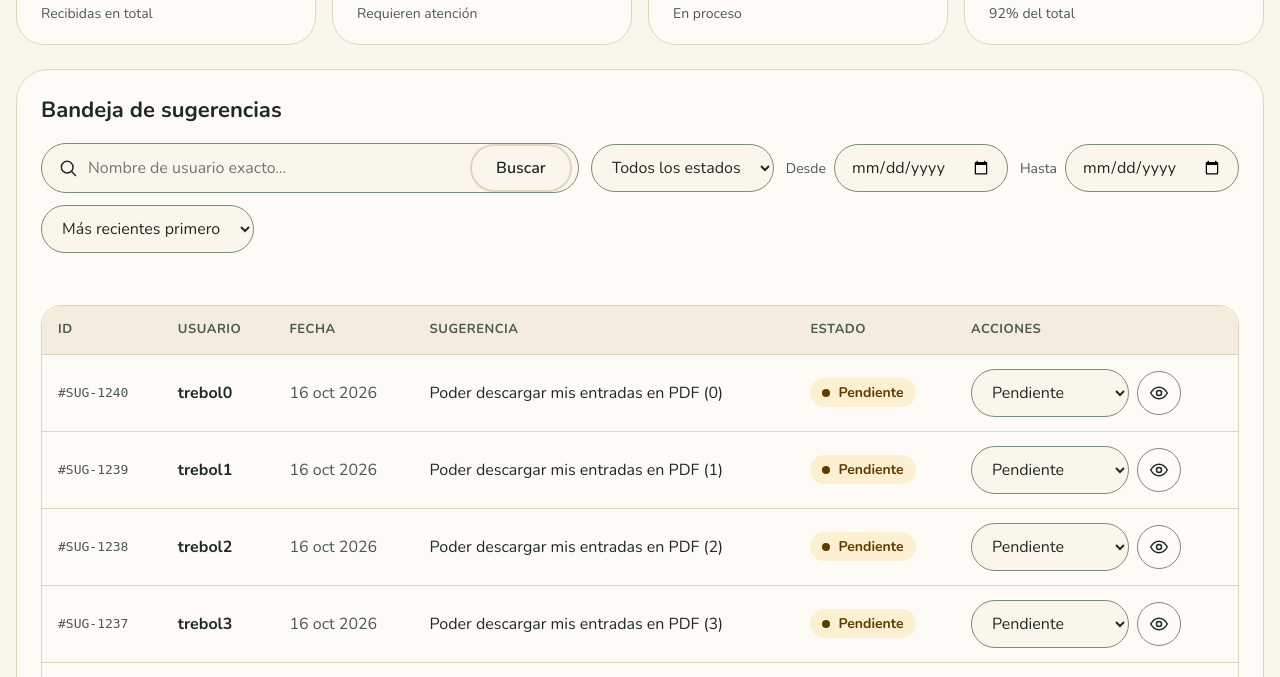
PanelSugerencias cuando la fuente también resume y permite cambiar el estado (HU-11) › el ojo permite cambiar el estado y dejar un comentario que verá quien sugirió
The width and height of the screenshot is (1280, 677).
(page scrolled)
Expected: the text "trebol0" is shown, [162,354,273,431]
Click the button named "Ver la sugerencia SUG-1240" at (1159, 392), box [1137,370,1181,414]
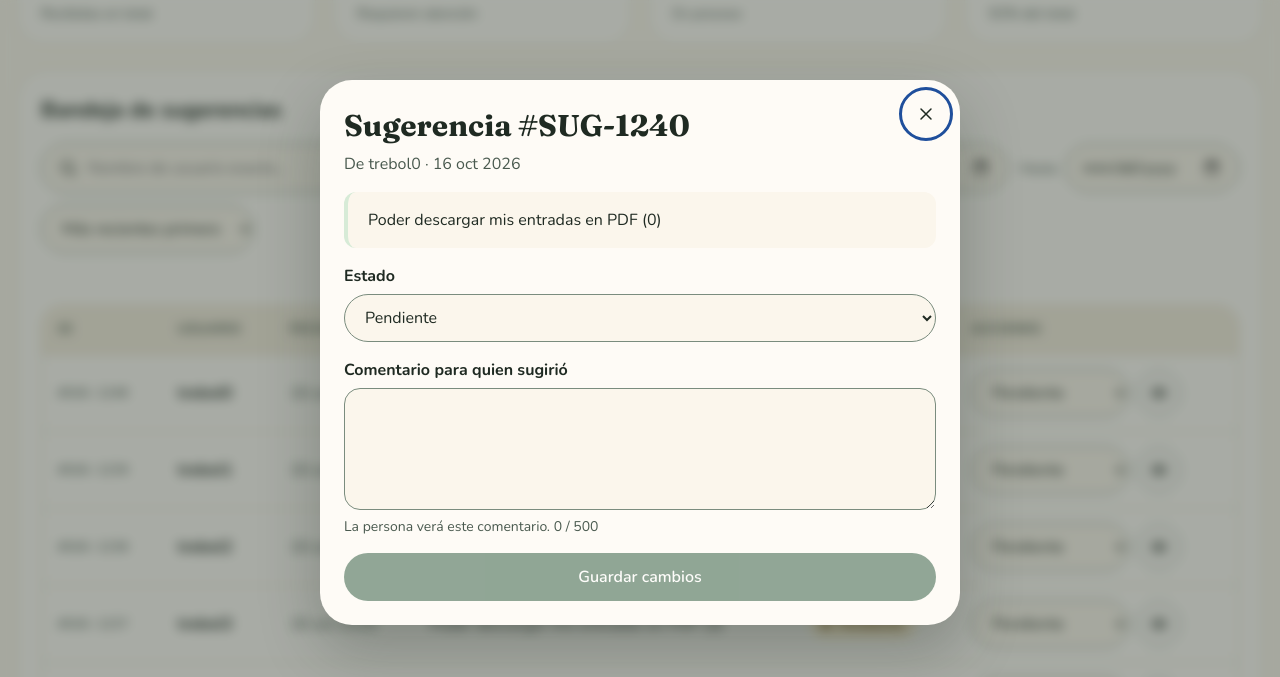
Expected: the button "Guardar cambios" is disabled, [344,552,936,600]
Select "Implementada" in the dropdown labelled "Estado" at (640, 318), box [344,294,936,342]
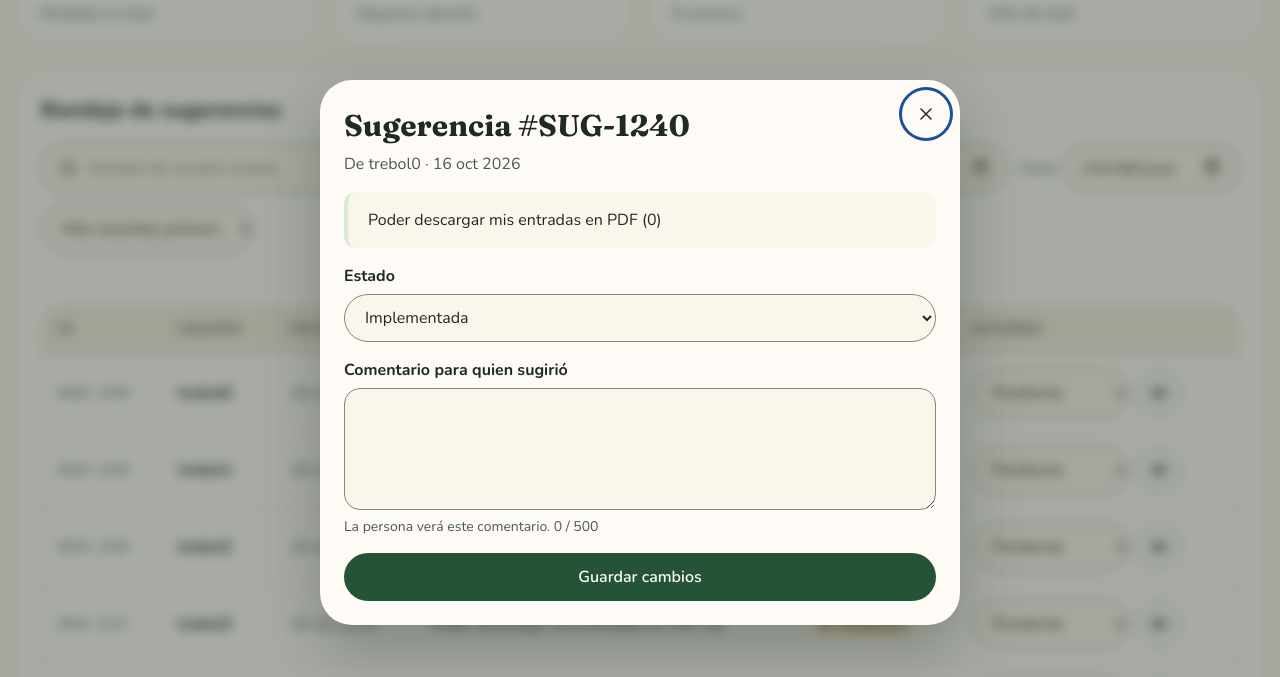
Type "  ¡Ya está disponible!  " into the text box labelled "Comentario para quien sugirió" at (640, 448), box [344,388,936,510]
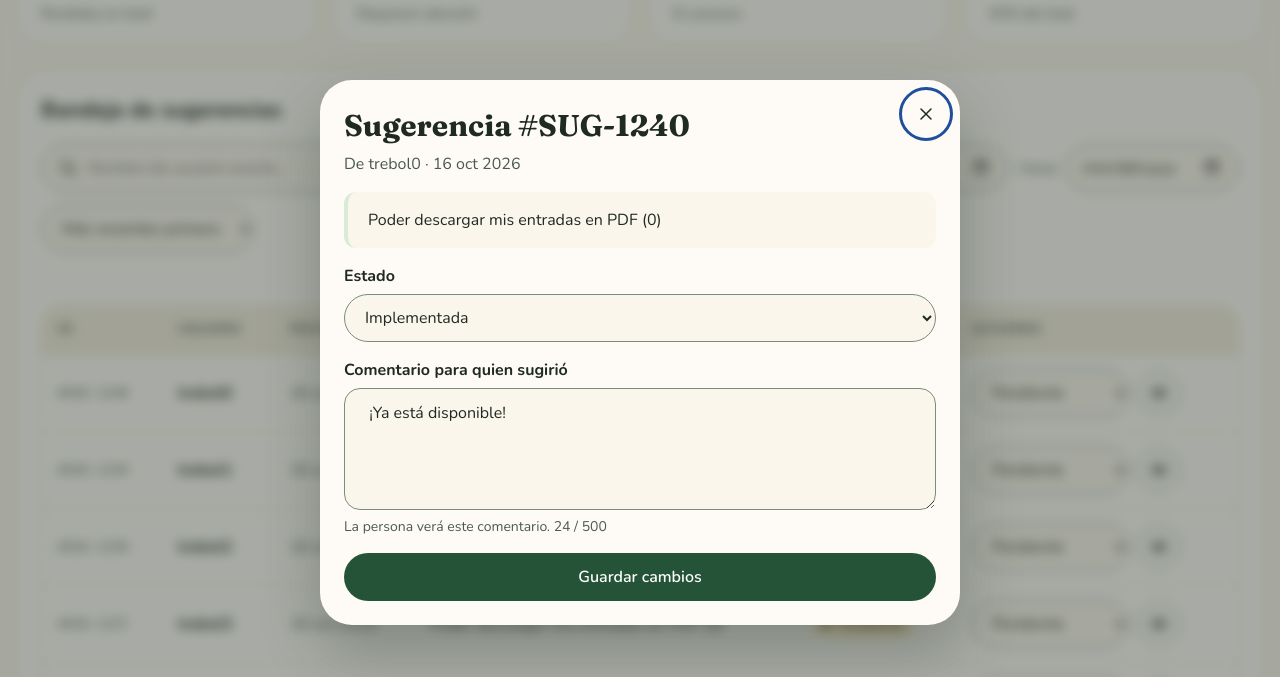
Expected: the text "La persona verá este comentario. 24 / 500" is shown, [344,516,607,536]
Click the button "Guardar cambios" at (640, 576), box [344,552,936,600]
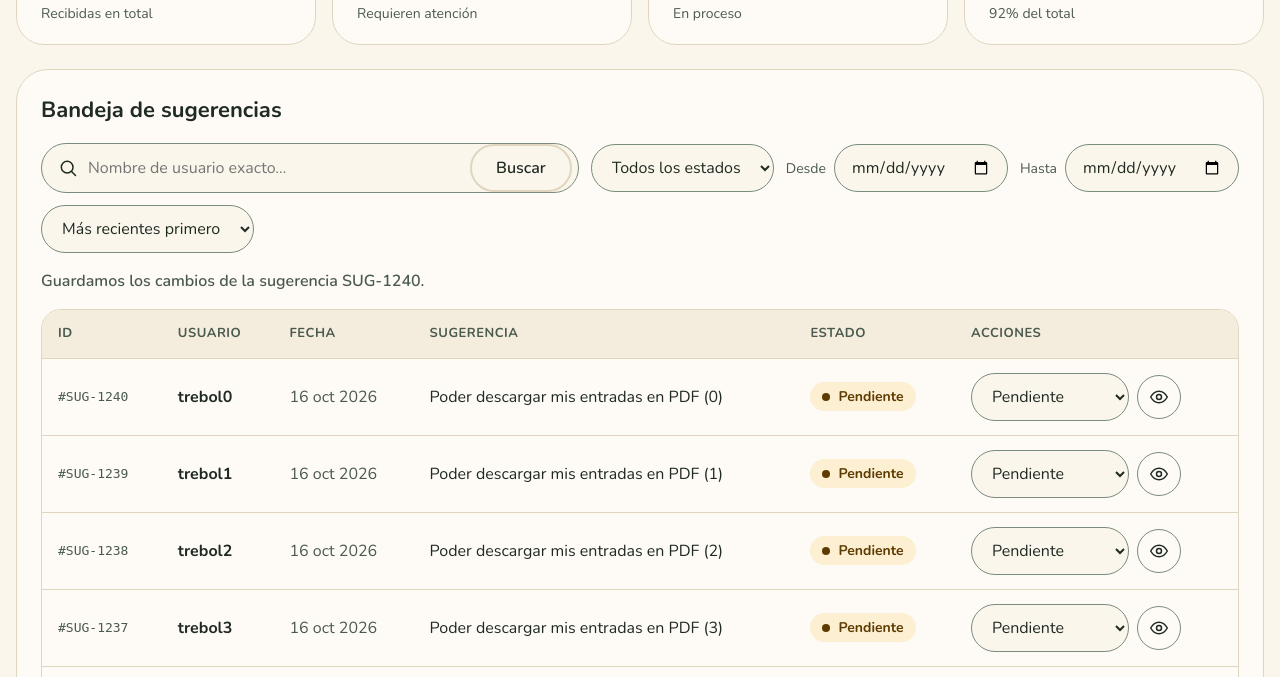
Expected: the dialog is gone
